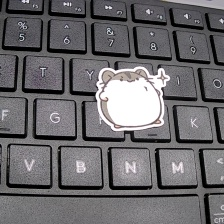mouse: (94, 65, 169, 133)
